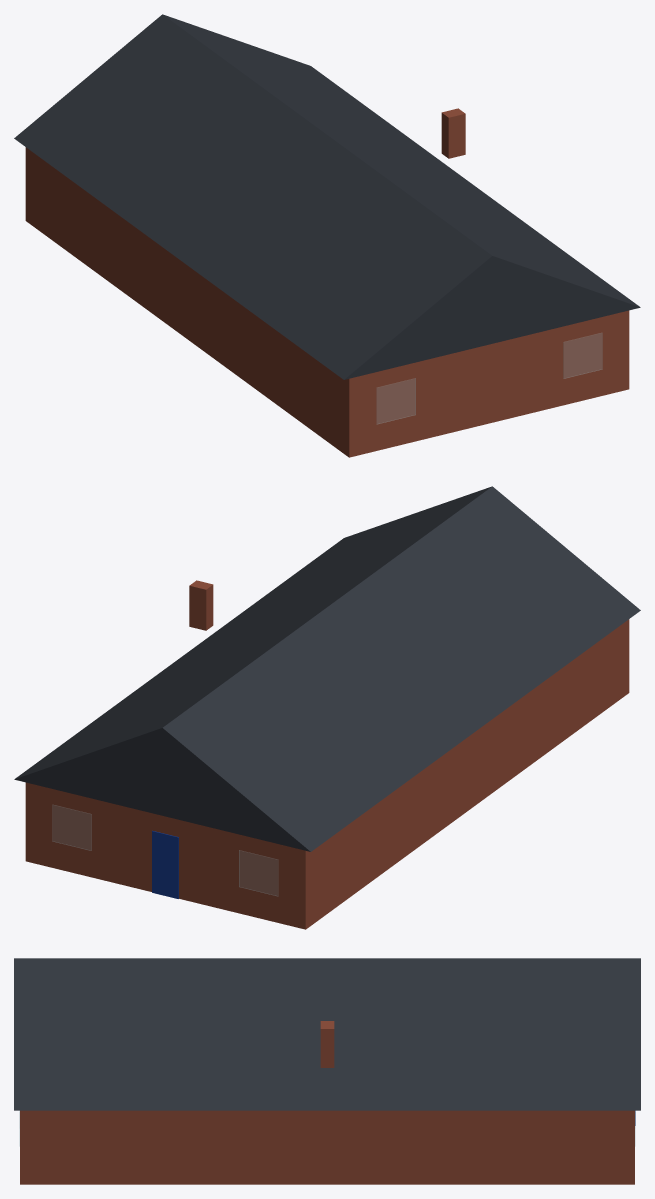
File: context.church_hall.glb
3 views of the same model, one above another, from view 1: azimuth 30°, elevation 25°; view 2: azimuth 150°, elevation 25°; view 3: azimuth 270°, elevation 25° (orthographic). The views are drawn at different scales.
Visible parts, largest first — view 1: roof__slate, walls__brick, openings__glass, roof__brick; view 2: roof__slate, walls__brick, openings__glass, openings__plastic_blue, roof__brick; view 3: roof__slate, walls__brick, roof__brick.
Boxes of the visible parts, x1,y1,x2,y2 form: roof__slate: [14, 14, 640, 379]; walls__brick: [25, 147, 629, 457]; openings__glass: [376, 333, 602, 424]; roof__brick: [441, 108, 465, 158]; roof__slate: [14, 486, 640, 851]; walls__brick: [25, 619, 629, 929]; openings__glass: [52, 805, 278, 896]; openings__plastic_blue: [152, 830, 178, 898]; roof__brick: [189, 580, 213, 630]; roof__slate: [14, 958, 640, 1110]; walls__brick: [20, 1110, 634, 1184]; roof__brick: [320, 1021, 334, 1067].
Bounding box in the file's own units: 10.6 × 5.8 × 20.4.
